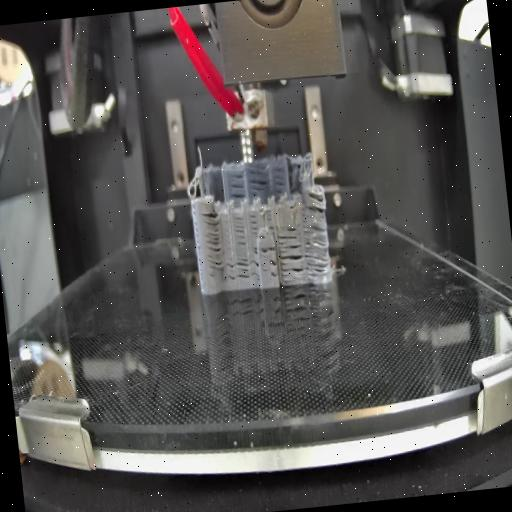cracks: (302, 222, 332, 276), (202, 211, 224, 273), (279, 244, 305, 284), (246, 166, 272, 198), (227, 260, 260, 283), (226, 172, 248, 203), (303, 190, 328, 216), (271, 164, 287, 196), (232, 214, 246, 249), (277, 224, 298, 243), (248, 212, 260, 238), (268, 258, 279, 282), (252, 246, 276, 256), (265, 212, 276, 231), (260, 235, 266, 240)
